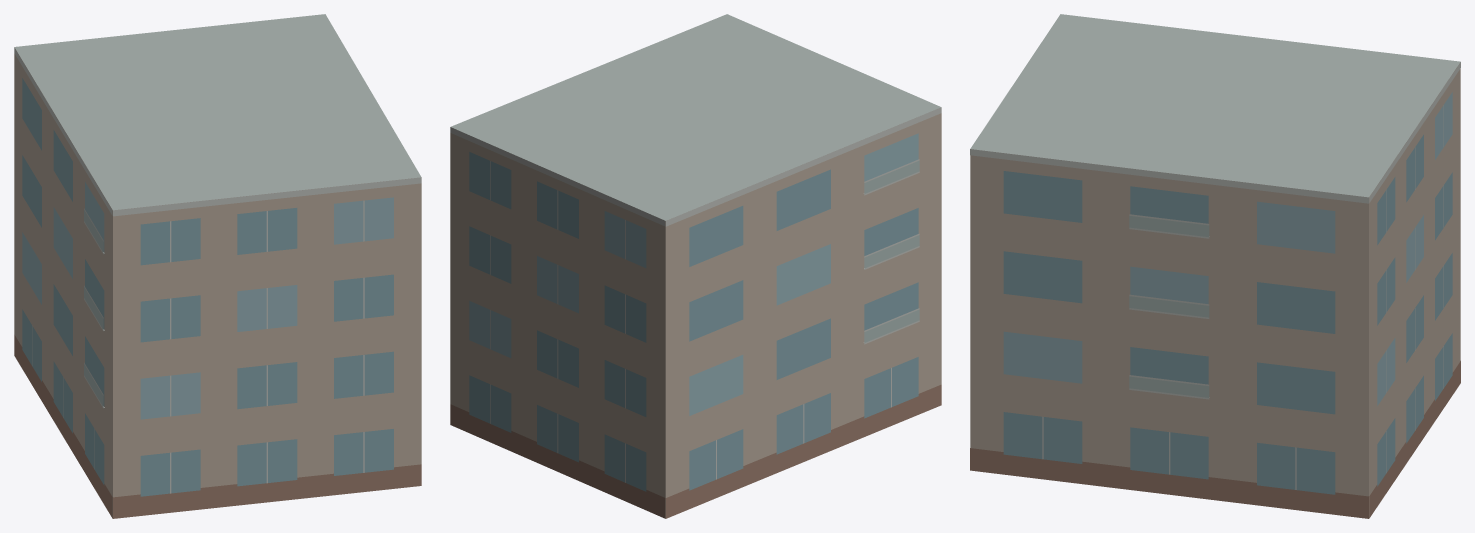
File: survey-upis-33031474.glb
3 views of the same model, side by side, from view 1: azimuth 30°, elevation 25°; view 2: azimuth 150°, elevation 25°; view 3: azimuth 270°, elevation 25° (orthographic). The views are drawn at different scales.
Visible parts, largest first — view 1: survey-upis-33031474.tmp; view 2: survey-upis-33031474.tmp; view 3: survey-upis-33031474.tmp.
Part boxes in pixels (x1,y1,x2,y2): survey-upis-33031474.tmp: [14, 14, 421, 518]; survey-upis-33031474.tmp: [450, 14, 941, 518]; survey-upis-33031474.tmp: [970, 14, 1460, 518].
Bounding box in the file's own units: 15.22 × 12.43 × 17.2.
